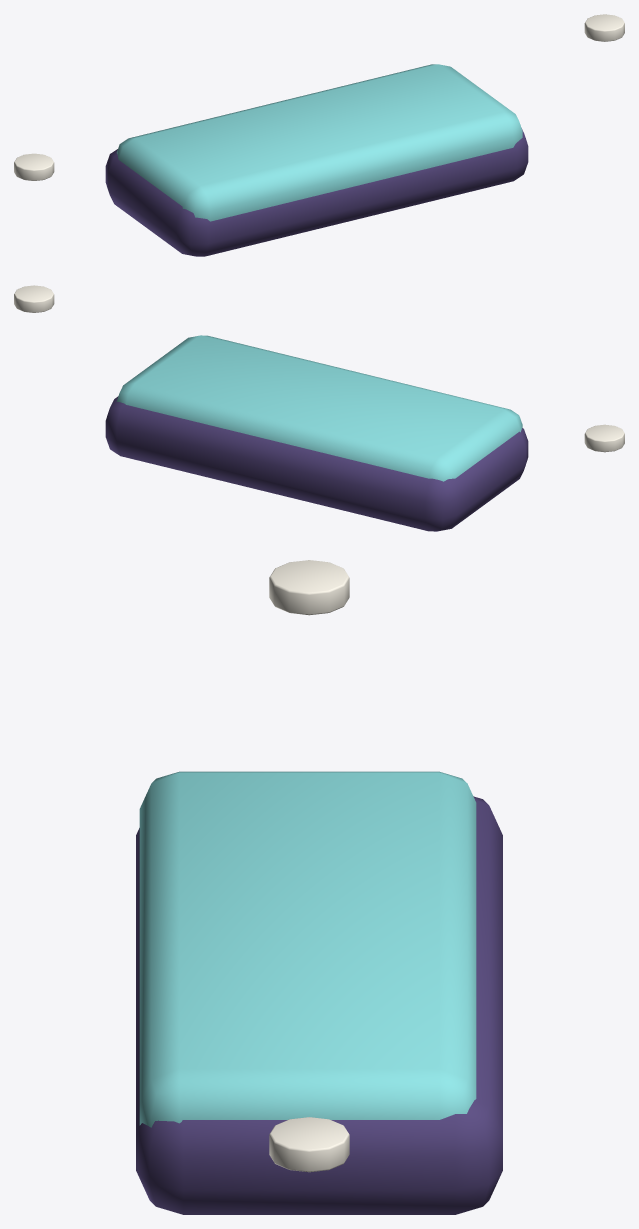
Rendered from music_bar_4.glb.
The picture shows the model from 3 angles, top to bottom: view 1: azimuth 30°, elevation 25°; view 2: azimuth 150°, elevation 25°; view 3: azimuth 270°, elevation 25°; orthographic projection. The views are drawn at different scales.
Visible parts, largest first — view 1: PaintedKey.004, InkKey.004, PearlPin_1.004, PearlPin_-1.004; view 2: PaintedKey.004, InkKey.004, PearlPin_-1.004, PearlPin_1.004; view 3: PaintedKey.004, InkKey.004, PearlPin_1.004, PearlPin_-1.004.
Part boxes in pixels (<box>): PaintedKey.004: <box>116,64,522,221</box>; InkKey.004: <box>105,128,528,256</box>; PearlPin_1.004: <box>584,14,624,41</box>; PearlPin_-1.004: <box>14,153,54,180</box>; PaintedKey.004: <box>116,335,522,481</box>; InkKey.004: <box>105,396,528,531</box>; PearlPin_-1.004: <box>584,424,624,452</box>; PearlPin_1.004: <box>14,285,54,312</box>; PaintedKey.004: <box>139,771,476,1127</box>; InkKey.004: <box>136,796,502,1214</box>; PearlPin_1.004: <box>269,1117,349,1172</box>; PearlPin_-1.004: <box>269,560,349,615</box>.
Bounding box in the file's own units: 5.56 × 0.9125 × 1.46.
